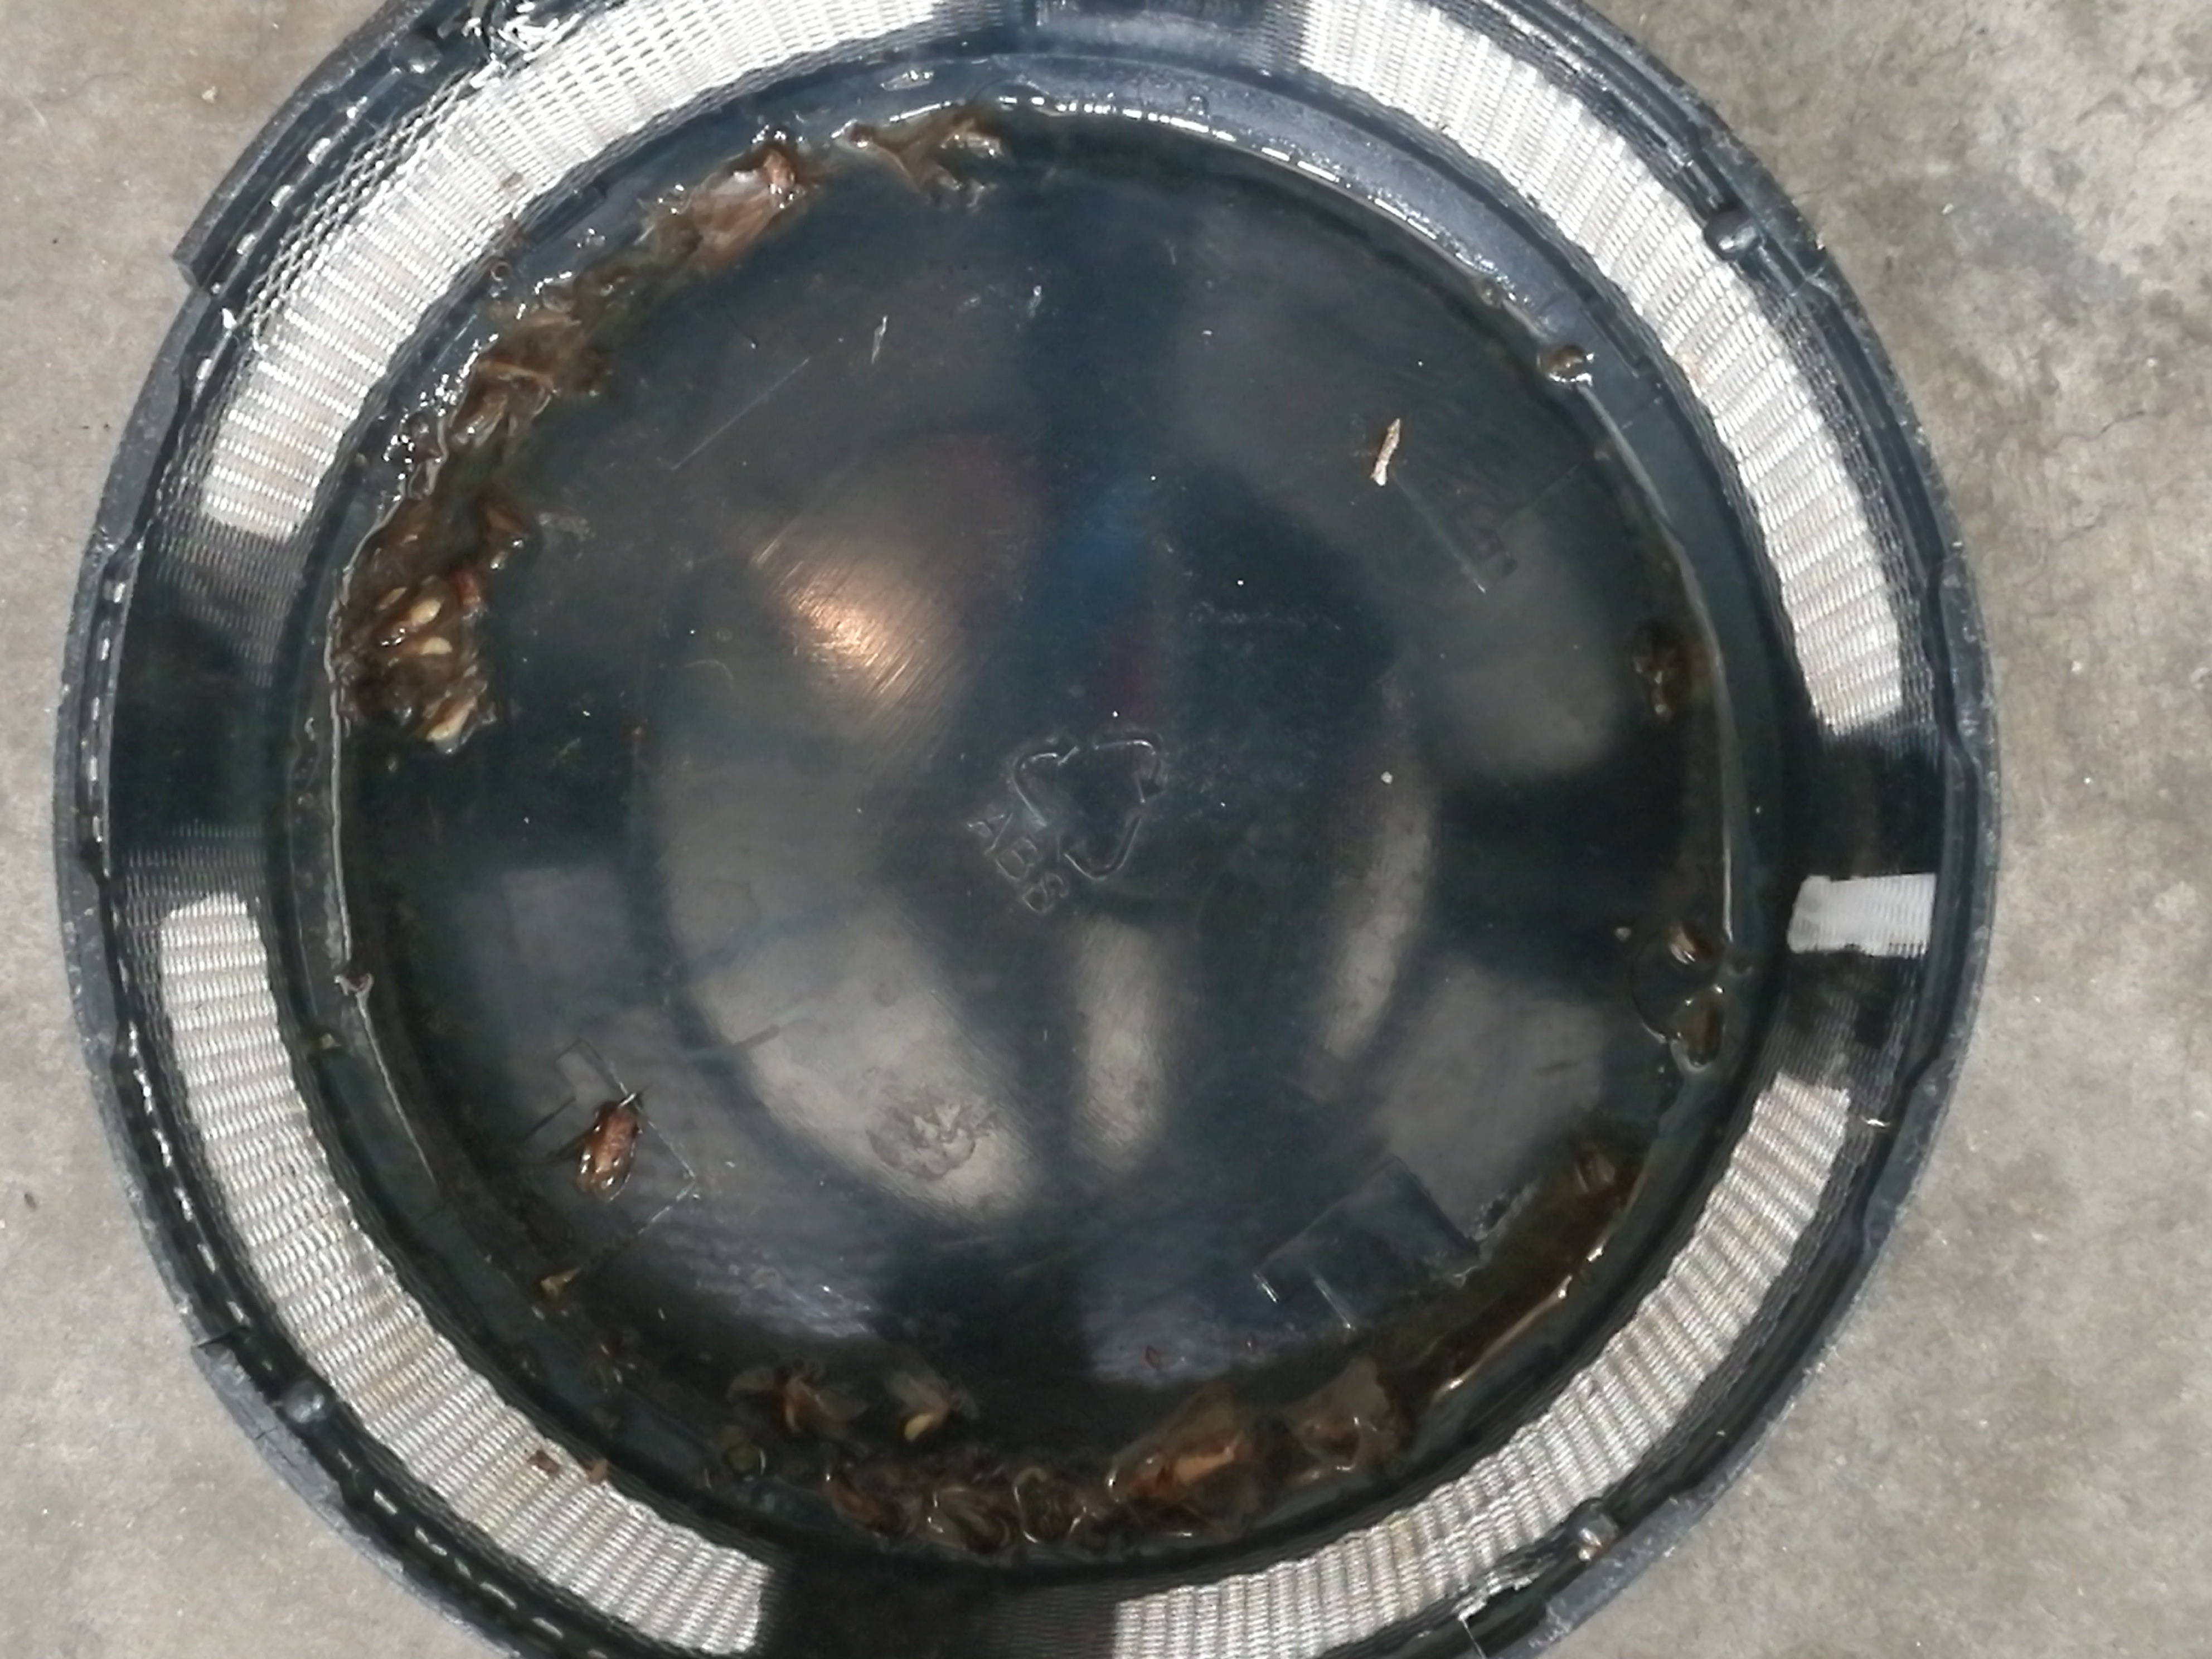moth: (1139, 1391, 1258, 1539), (695, 150, 808, 275), (578, 1103, 639, 1201)
